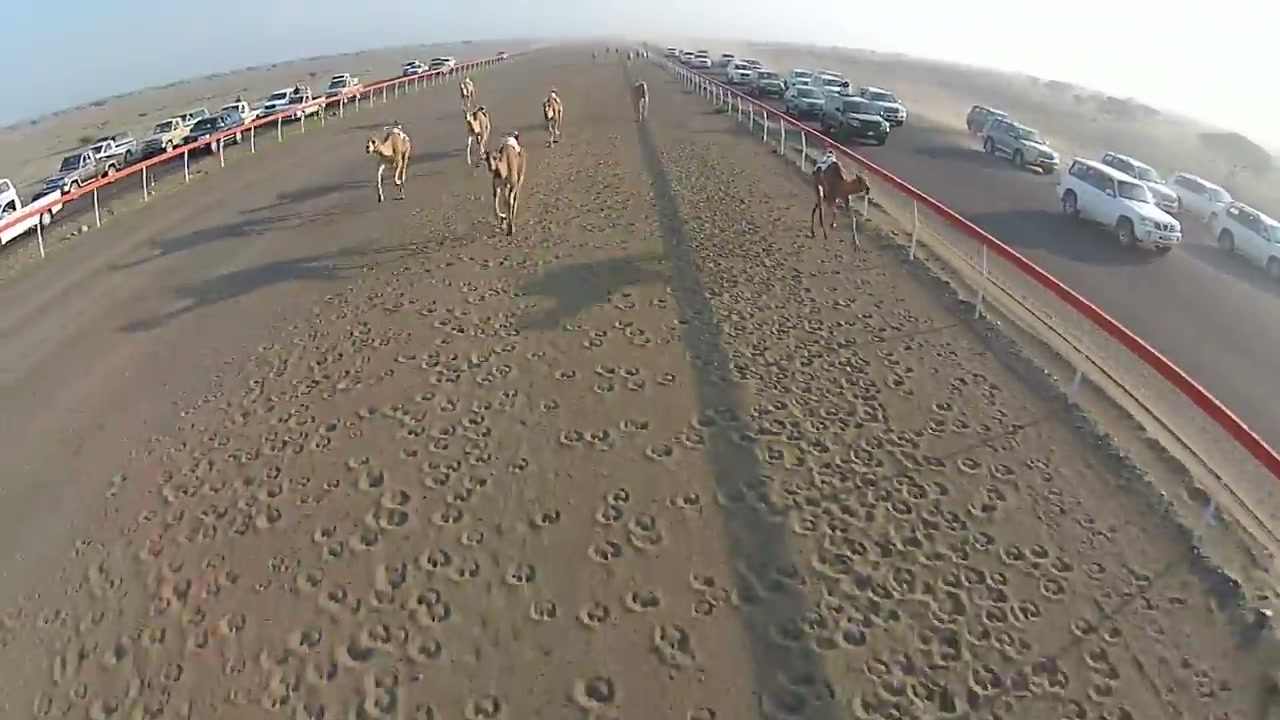animal_foot_print: (0, 74, 1258, 719), (690, 219, 1163, 715), (690, 572, 733, 617), (572, 675, 619, 716), (653, 625, 696, 668), (626, 513, 663, 550), (463, 695, 504, 719), (578, 601, 613, 628), (588, 540, 624, 563), (624, 590, 661, 612), (530, 600, 559, 621), (686, 706, 718, 719)
